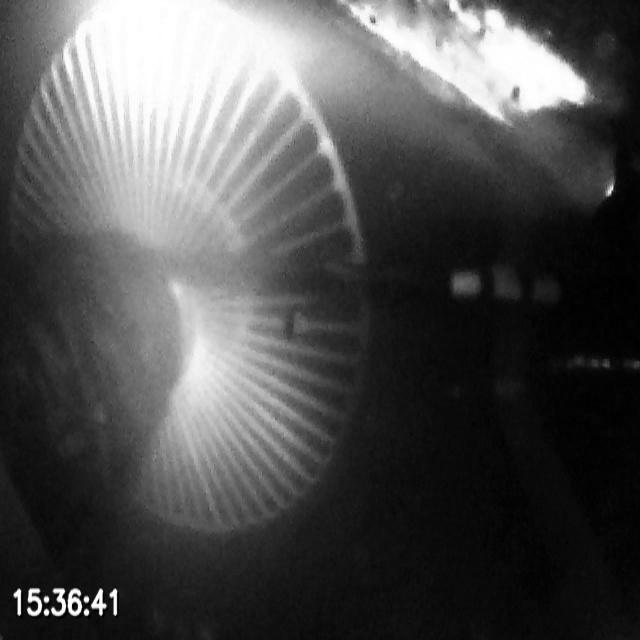white-dots: (450, 266, 564, 309)
